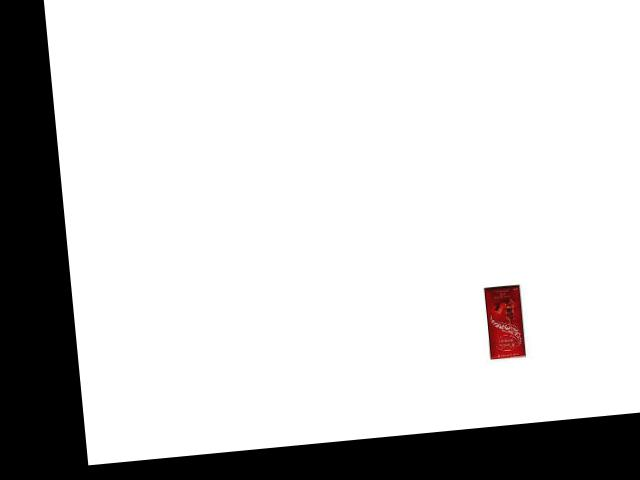chocolate: (482, 279, 528, 361)
